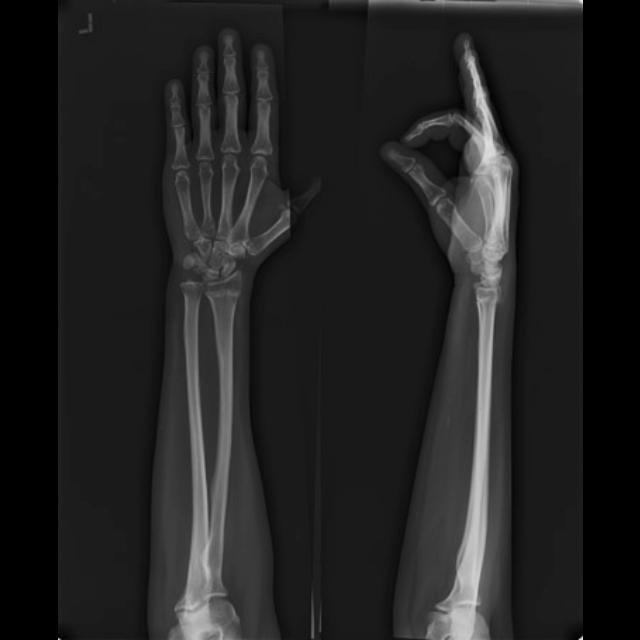Fracture: (196, 279, 245, 308), (466, 280, 508, 313)
